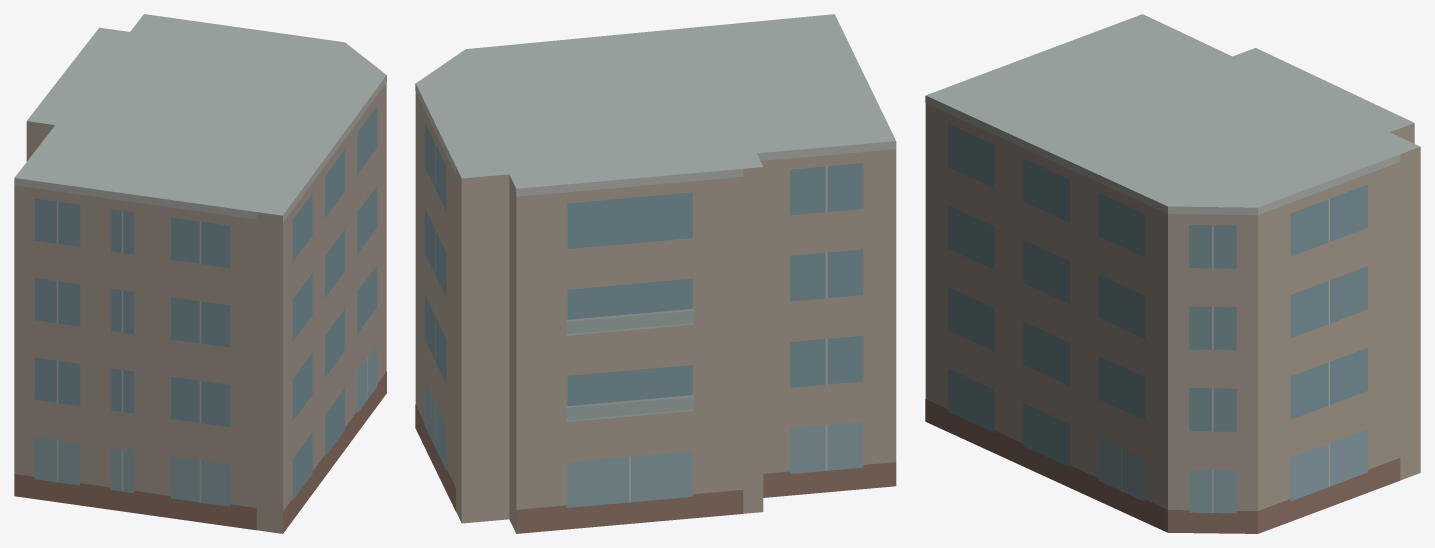
Rendered from survey-upis-32753644.glb.
The picture shows the model from 3 angles, left to right: view 1: azimuth 30°, elevation 25°; view 2: azimuth 150°, elevation 25°; view 3: azimuth 270°, elevation 25°; orthographic projection. The views are drawn at different scales.
Visible parts, largest first — view 1: survey-upis-32753644.tmp; view 2: survey-upis-32753644.tmp; view 3: survey-upis-32753644.tmp.
Boxes of the visible parts, left/top/right/bottom form: survey-upis-32753644.tmp: left=14, top=14, right=386, bottom=533; survey-upis-32753644.tmp: left=415, top=14, right=896, bottom=533; survey-upis-32753644.tmp: left=925, top=14, right=1420, bottom=533.
Size of the model in its own units: 13.38 by 10.5 by 14.44.
